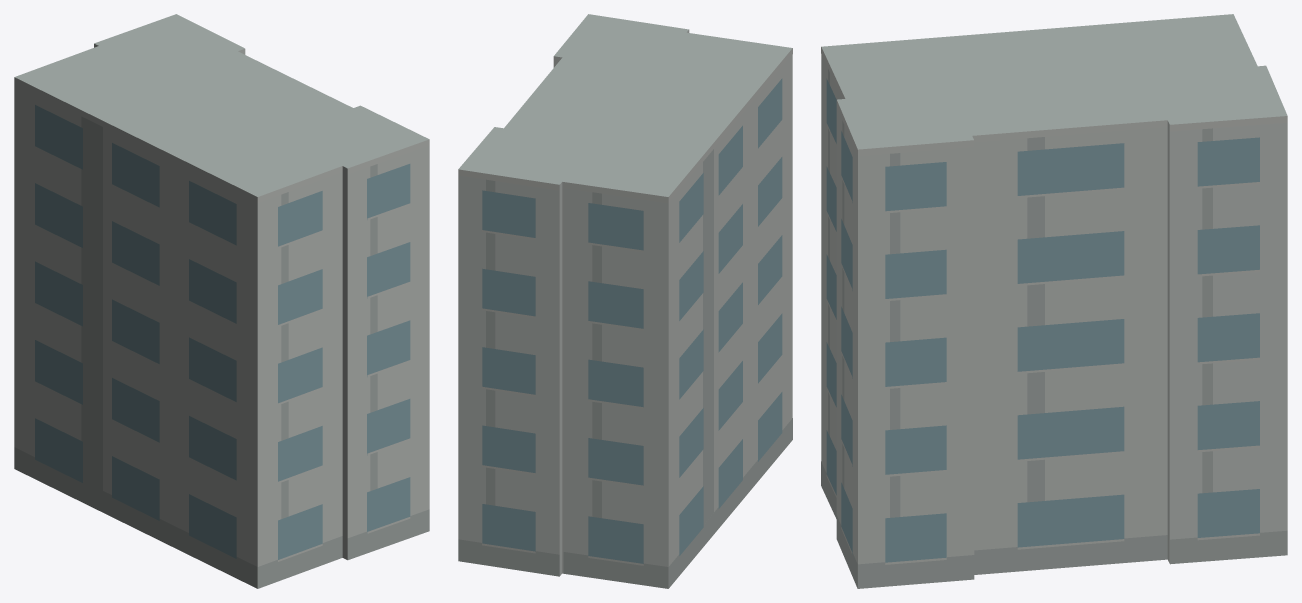
File: survey-upis-32881870.glb
The picture shows the model from 3 angles, left to right: view 1: azimuth 30°, elevation 25°; view 2: azimuth 150°, elevation 25°; view 3: azimuth 270°, elevation 25°; orthographic projection. The views are drawn at different scales.
Parts seen in each view (by area): view 1: survey-upis-32881870.tmp; view 2: survey-upis-32881870.tmp; view 3: survey-upis-32881870.tmp.
Boxes of the visible parts, x1,y1,x2,y2 form: survey-upis-32881870.tmp: (14, 14, 429, 588); survey-upis-32881870.tmp: (458, 14, 792, 588); survey-upis-32881870.tmp: (821, 14, 1287, 588).
Size of the model in its own units: 10.33 by 15.6 by 15.02.
